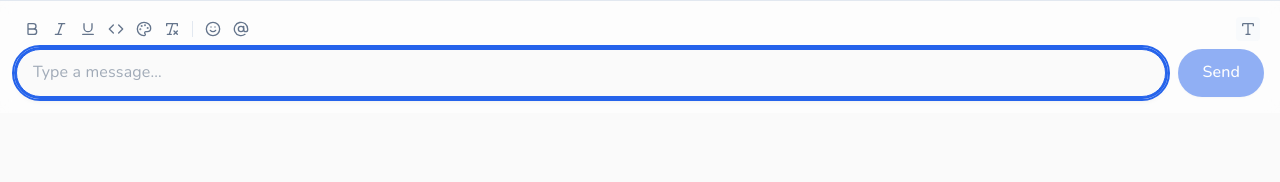
composer formatting toolbar › wraps the current selection in monospace backticks when Monospace is clicked
Type "code" into the field with test id "message-input" at (591, 73), box [16,49,1166,97]
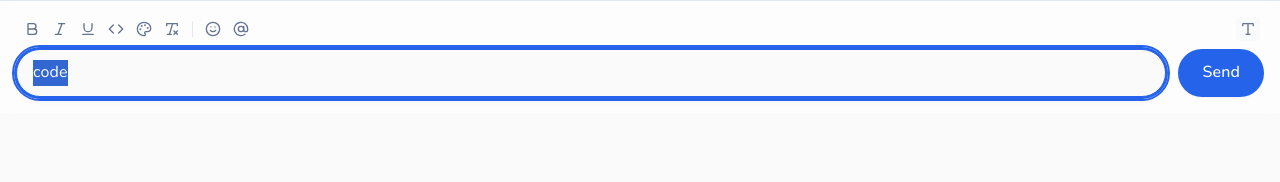
Click the button titled "Monospace (Ctrl/Cmd+E)" at (116, 29), box [104,17,128,41]
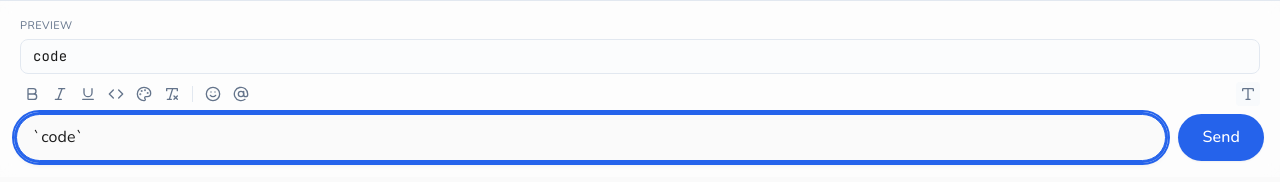
Check: the field with test id "message-input" holds "`code`", box [16,114,1166,161]
